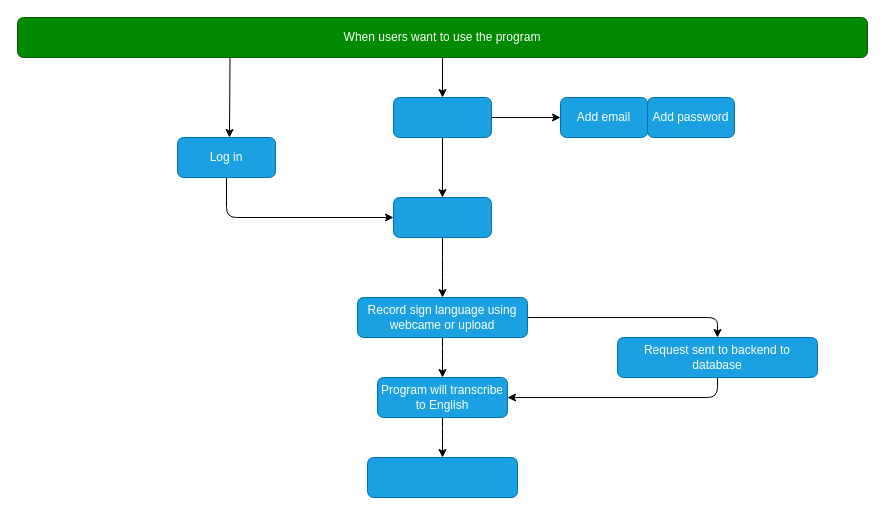
Some shapes in this 885 by 515 pixel diagram are drawn without their labels. The centre of each missing label's shape, as x and y in pixels:
Create Account: the point at 442,117
Start project: the point at 442,217
Transcription can be saved: the point at 442,477
